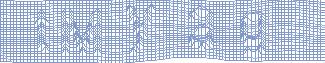3: (187, 5, 216, 51)
M: (60, 8, 102, 58)
g: (238, 10, 267, 58)
t: (33, 10, 53, 54)
y: (122, 3, 158, 57)
